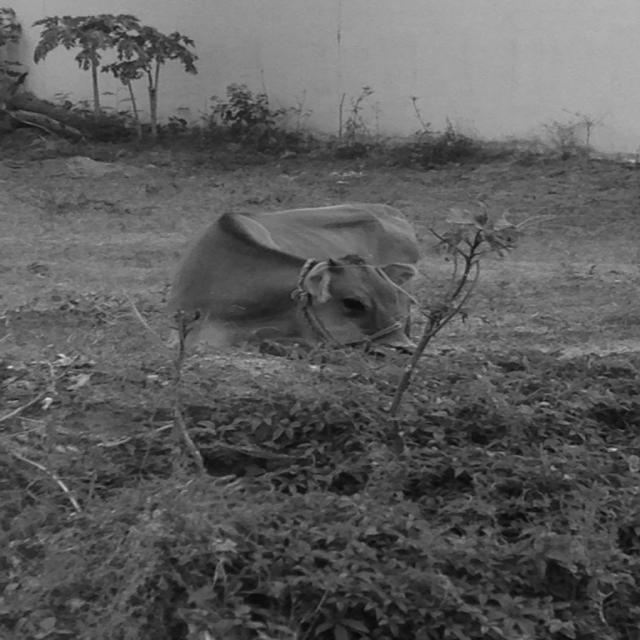cow: (170, 202, 419, 347)
